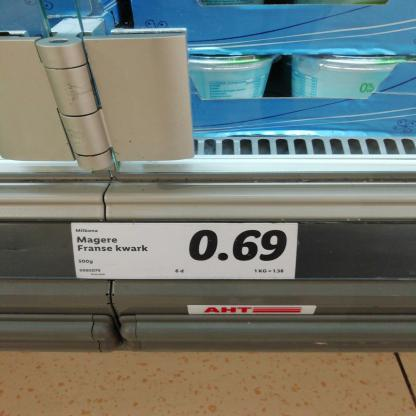prtg: (72, 224, 299, 280)
